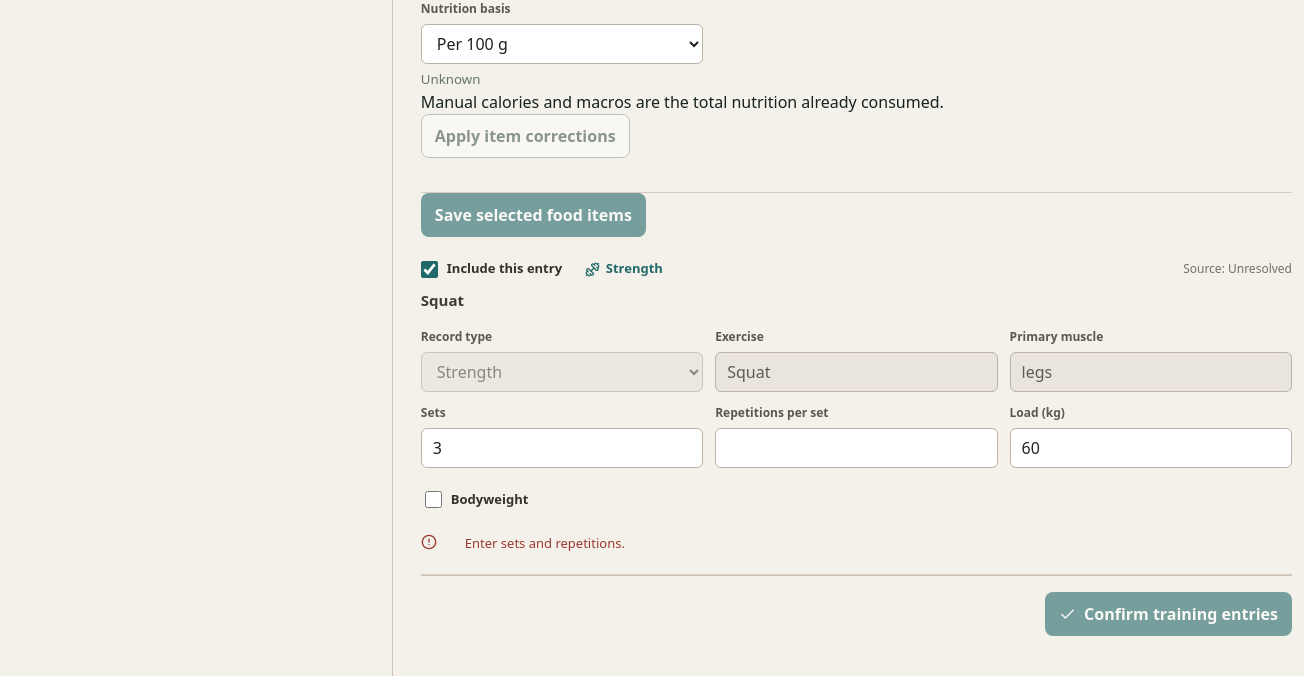
Test: local training edits across food commands with the real draft hook › keeps conflicting local reps visible and blocks confirmation when server training changed
The width and height of the screenshot is (1304, 676).
(page scrolled)
Type "8" into the number field labelled "Repetitions per set".
click(856, 448); type("8")  # box left=715, top=428, right=998, bottom=468
(page scrolled)
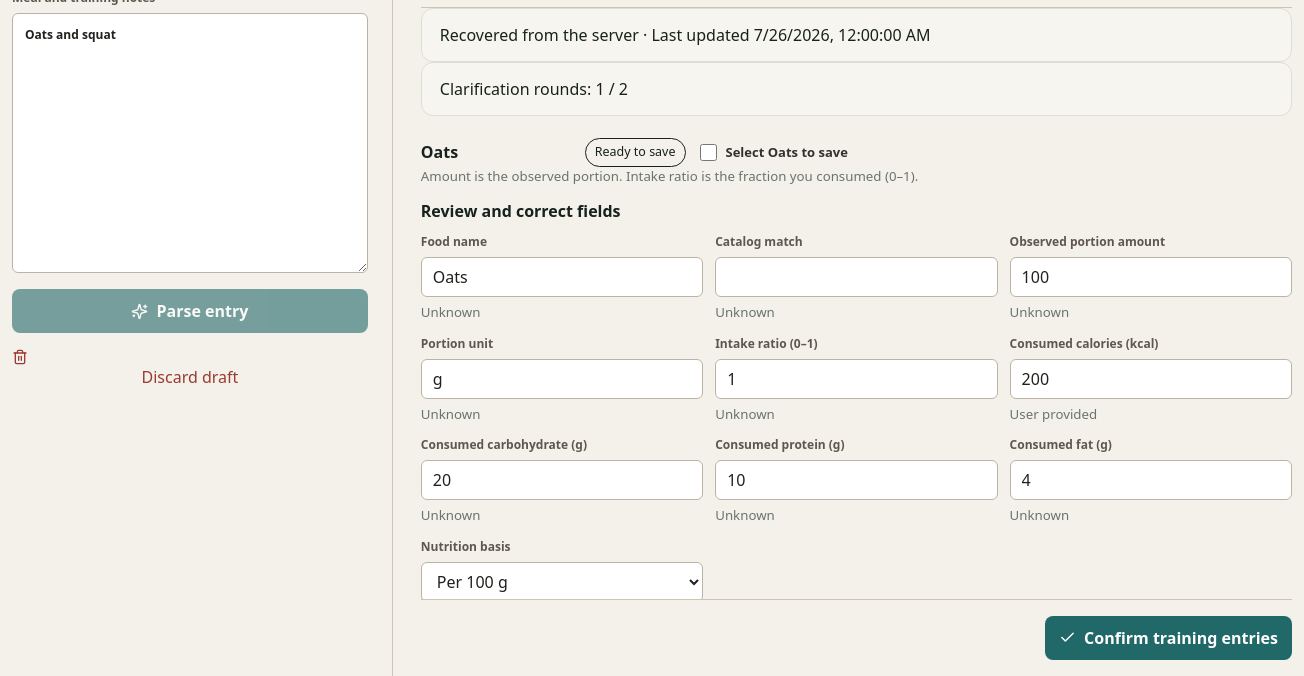
Replace the text in the number field labelled "Observed portion amount" with "50" at (1151, 277), box left=1010, top=257, right=1292, bottom=297
(page scrolled)
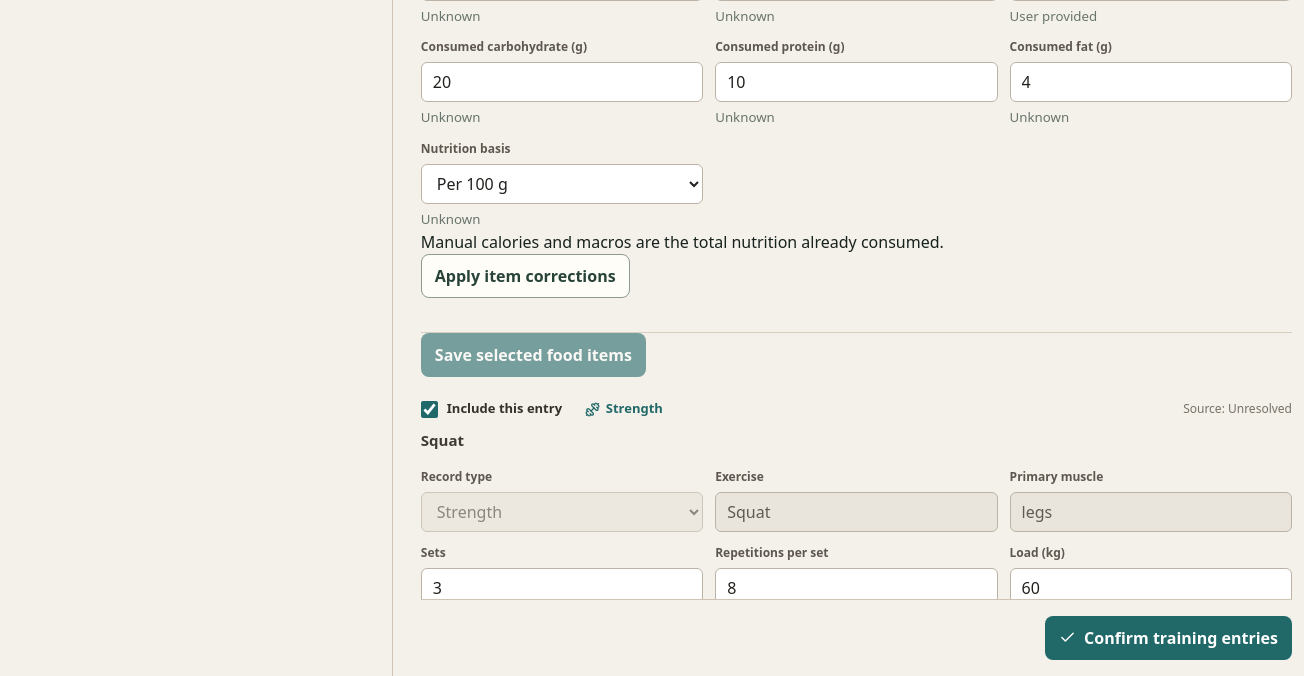
Click the button "Apply item corrections".
click(525, 276)  # box left=421, top=254, right=630, bottom=298
(page scrolled)
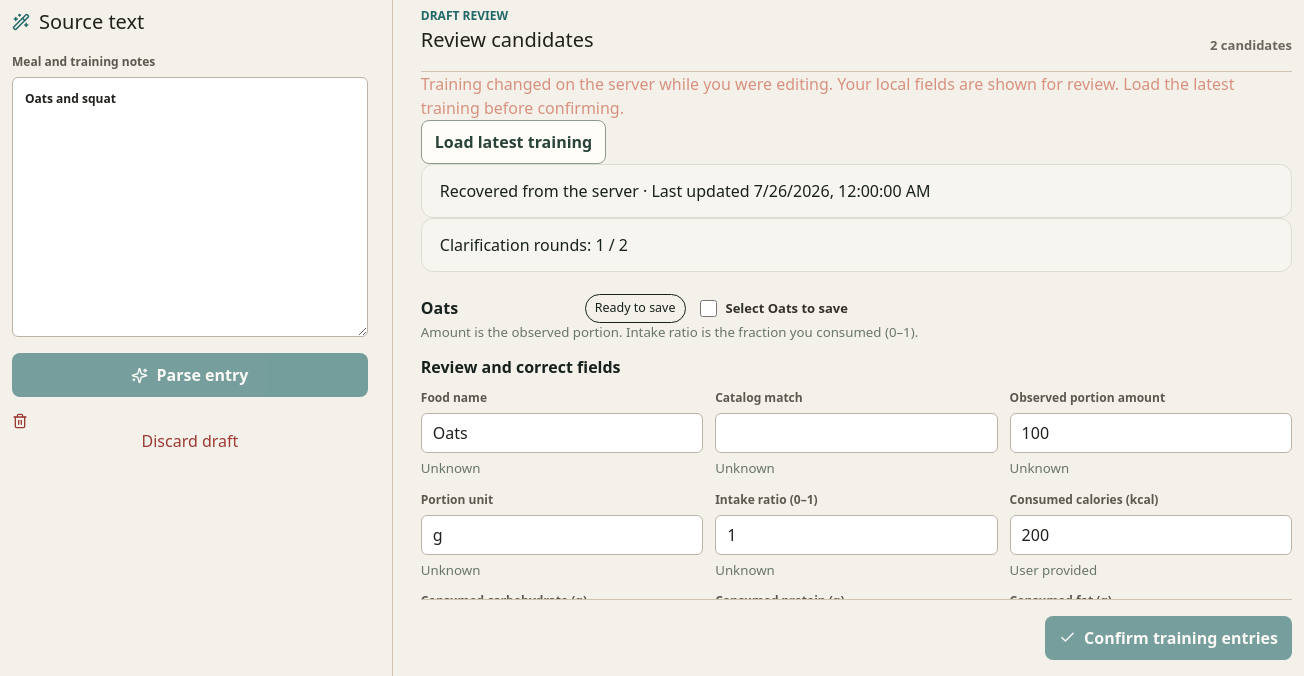
Now the 1st message is shown, box left=421, top=72, right=1292, bottom=120
Now the button "Confirm training entries" is disabled, box left=1045, top=616, right=1292, bottom=660
Click the button "Load latest training".
click(514, 142)  # box left=421, top=120, right=606, bottom=164
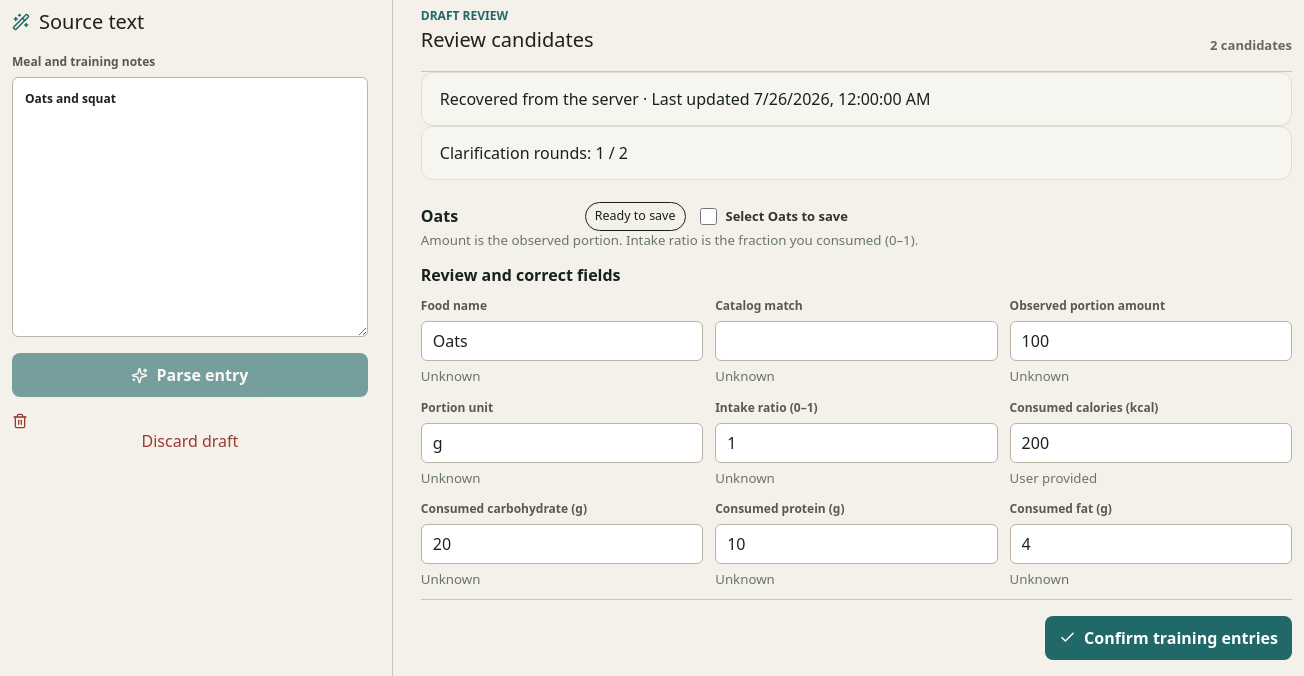
Now the button "Confirm training entries" is enabled, box left=1045, top=616, right=1292, bottom=660
